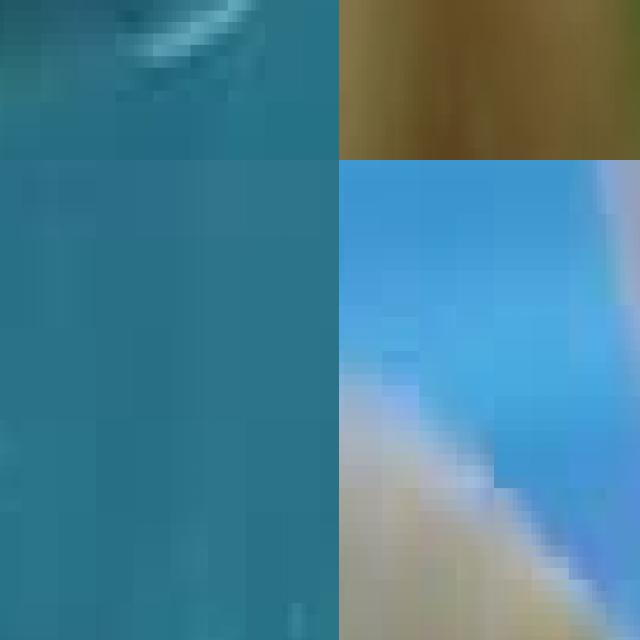fish: (339, 160, 640, 640), (0, 0, 339, 160)
